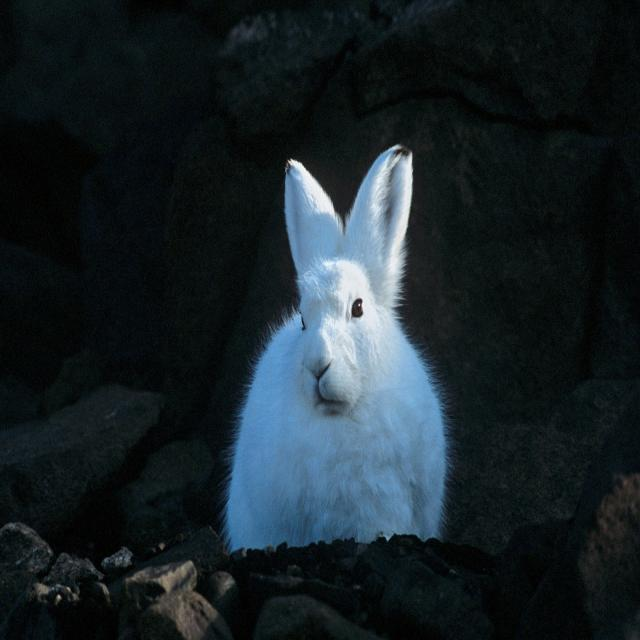hare: (226, 145, 446, 548)
